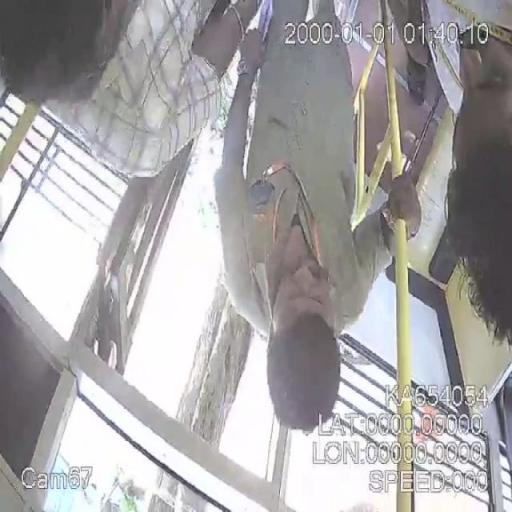persona: (208, 1, 426, 434), (0, 2, 252, 185), (428, 2, 512, 350)
